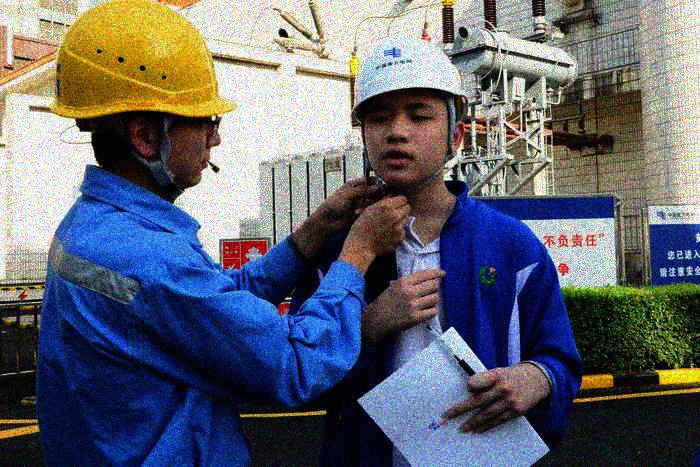helmet: (50, 1, 241, 188), (352, 34, 468, 187), (49, 1, 50, 4)
